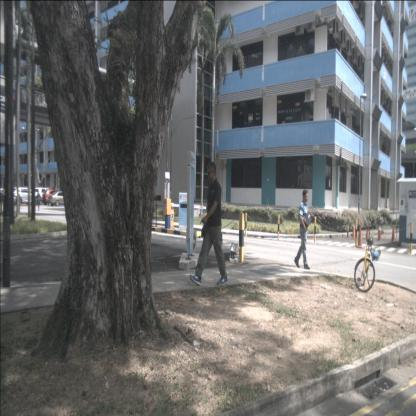cone: (356, 224, 363, 248), (351, 223, 356, 240), (391, 226, 396, 242), (365, 224, 370, 240), (377, 226, 382, 241)
